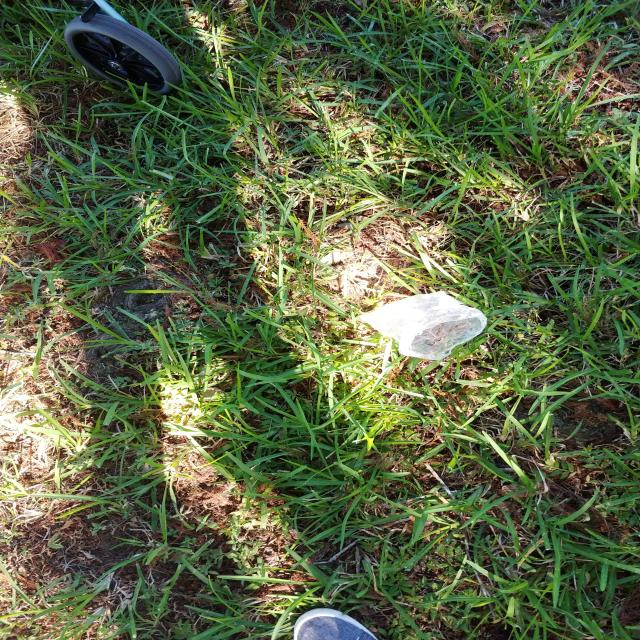litter: (324, 250, 526, 397), (43, 5, 203, 105)
